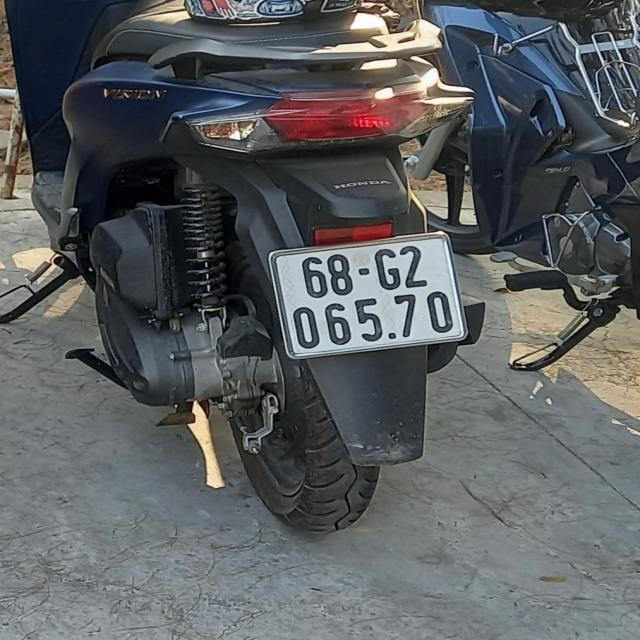0: (425, 290, 456, 338), (294, 303, 321, 353)
2: (398, 242, 430, 289)
5: (352, 294, 384, 344)
6: (320, 297, 352, 350), (299, 255, 329, 300)
7: (393, 294, 417, 340)
8: (330, 251, 354, 297)
G: (371, 243, 402, 292)
